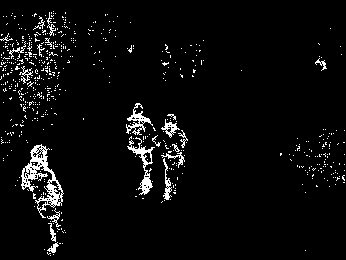person: (21, 143, 66, 253), (152, 111, 190, 204), (124, 100, 160, 198)
